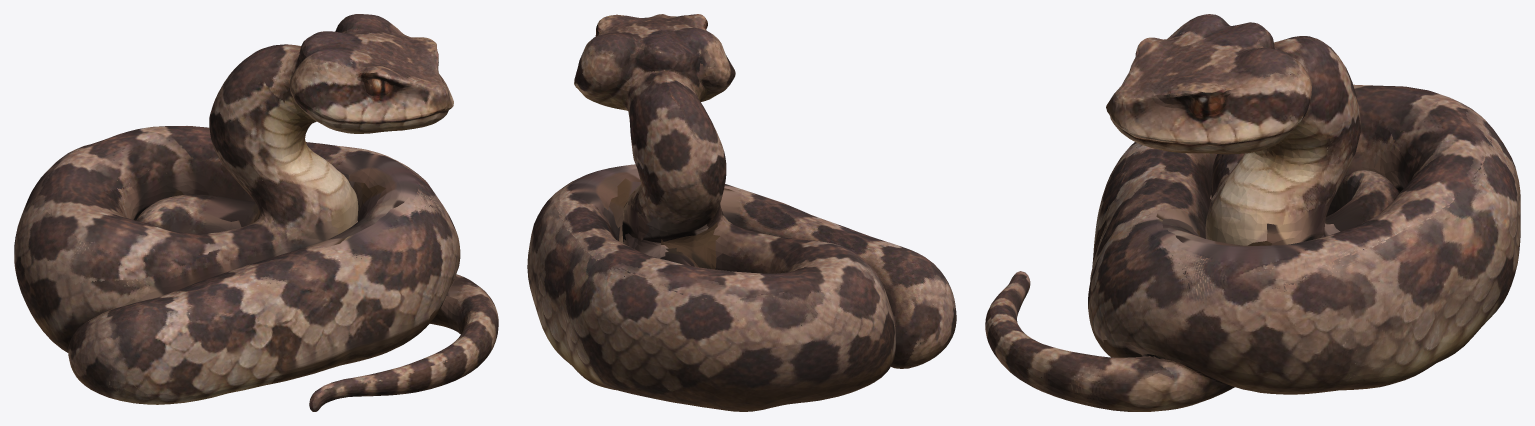
Rendered from mamushi.glb.
The picture shows the model from 3 angles, left to right: view 1: azimuth 30°, elevation 25°; view 2: azimuth 150°, elevation 25°; view 3: azimuth 270°, elevation 25°; orthographic projection. The views are drawn at different scales.
Parts seen in each view (by area): view 1: temp_mesh.ply; view 2: temp_mesh.ply; view 3: temp_mesh.ply.
Boxes of the visible parts, x1,y1,x2,y2 form: temp_mesh.ply: [14, 14, 498, 411]; temp_mesh.ply: [527, 14, 956, 411]; temp_mesh.ply: [985, 14, 1520, 411].
Size of the model in its own units: 1.91 by 1.36 by 1.96.
Materials: 1 (1 with a texture image).
